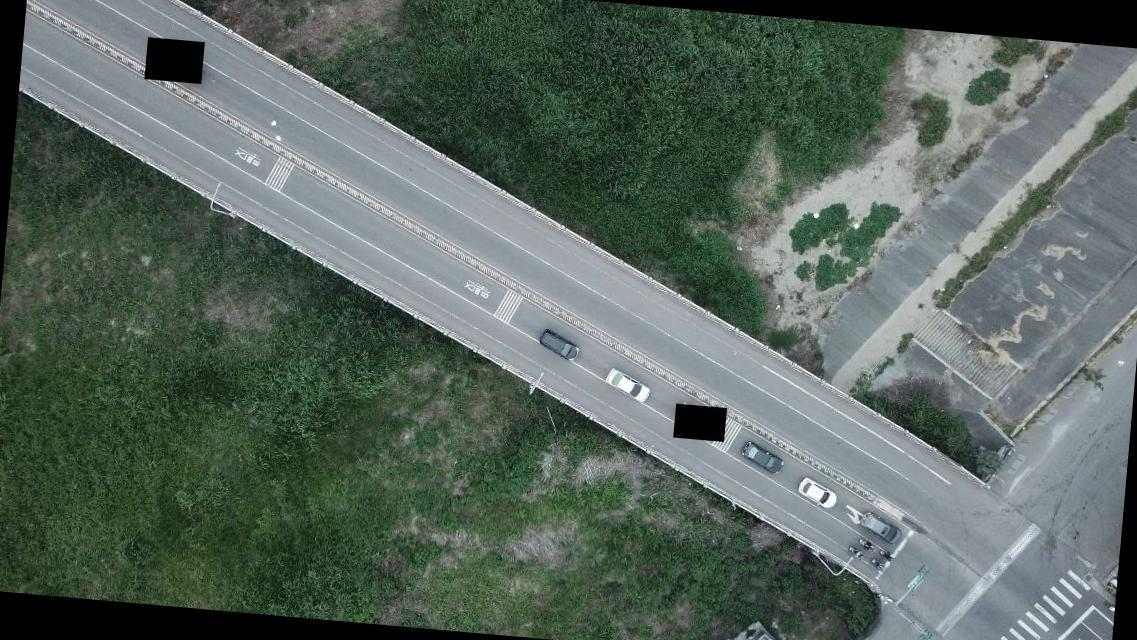vehicle: (739, 440, 786, 478), (602, 368, 654, 402), (858, 508, 902, 546), (536, 328, 581, 361), (797, 477, 838, 510)
